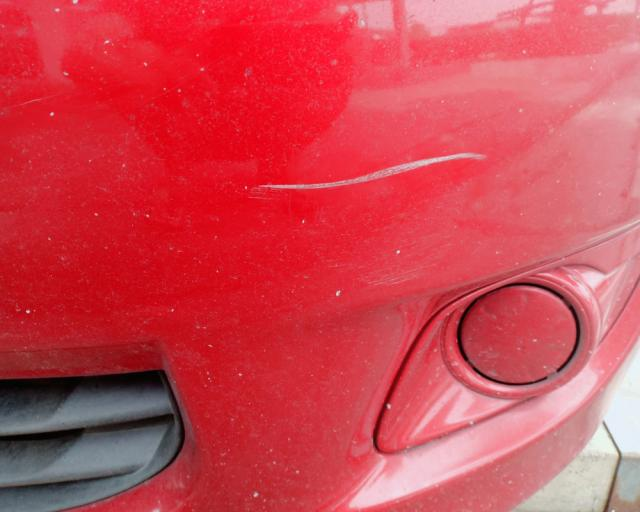scratch: (245, 148, 501, 196)
